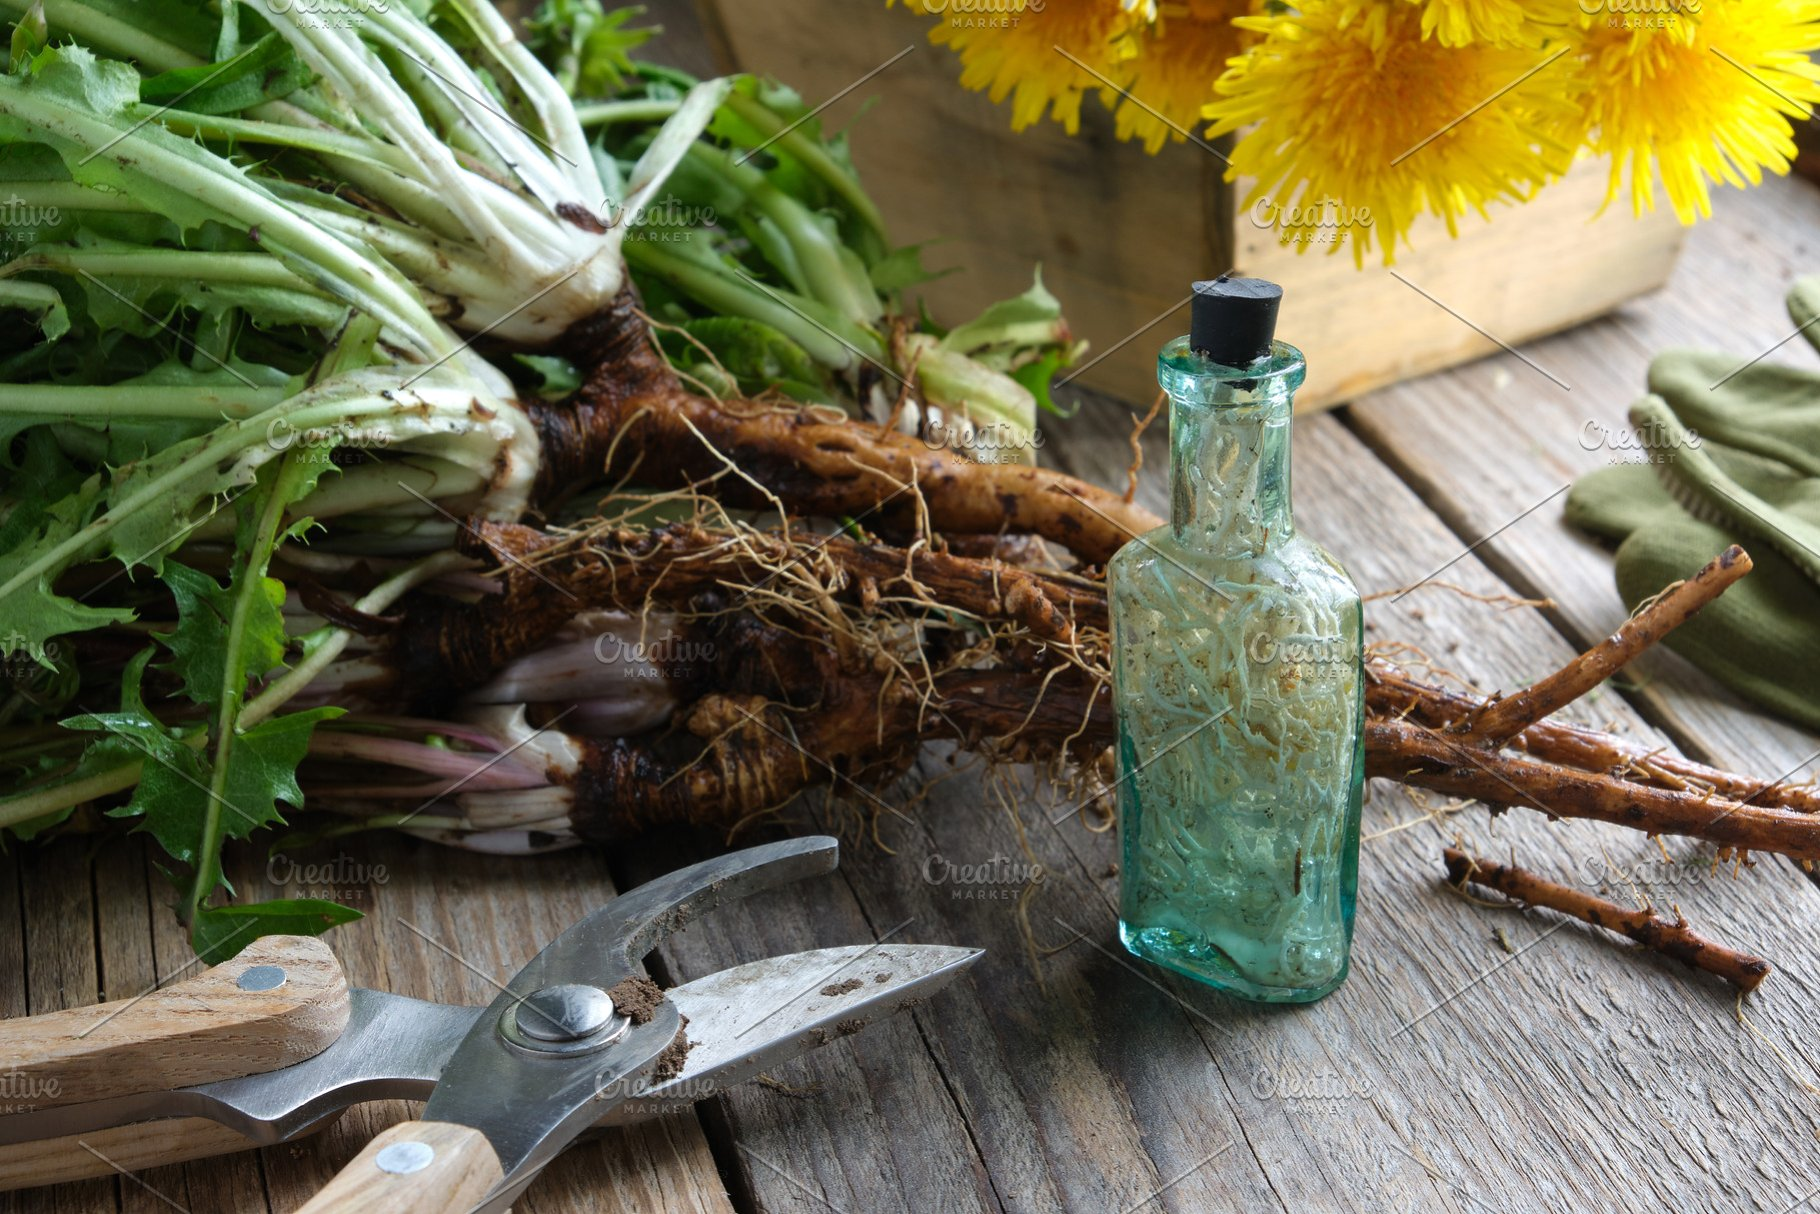dandelion: (1205, 24, 1533, 228), (1559, 5, 1774, 205), (929, 14, 1201, 127)
